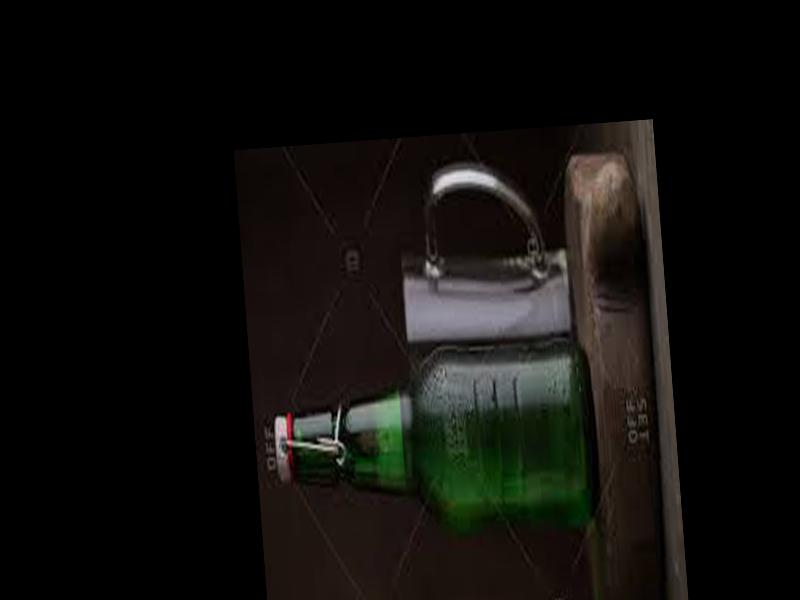Beer: (270, 341, 601, 542)
